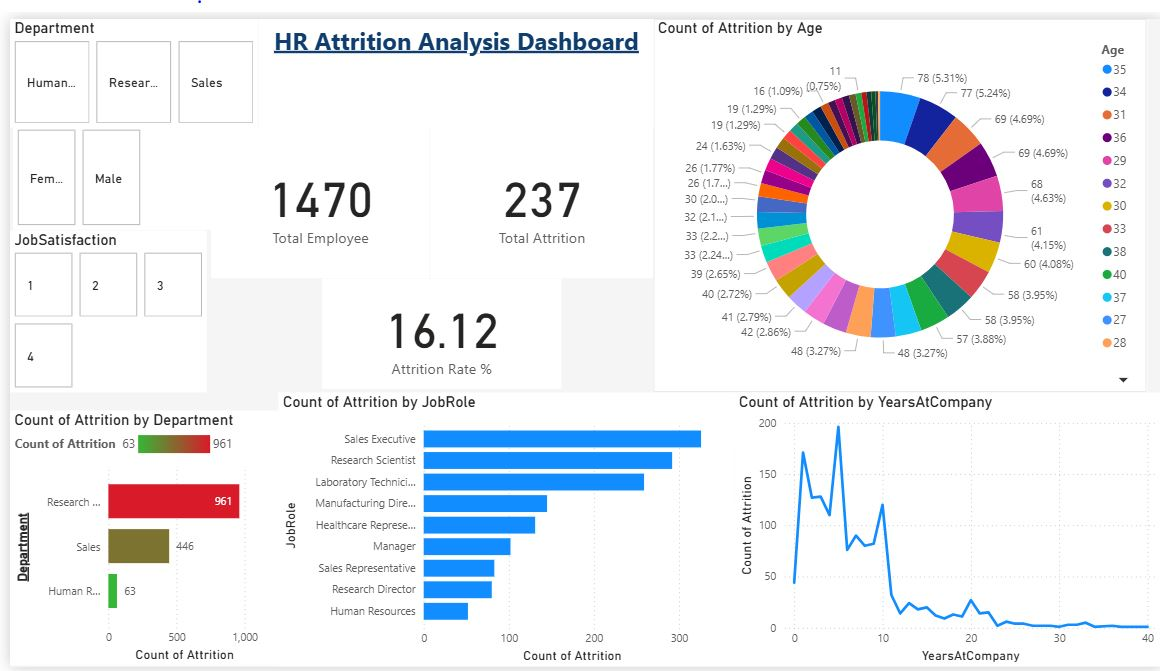

The page's visual inventory and layout, read from the dashboard file:
{"tool":"powerbi","page":{"name":"Page 1","canvas":[1280,720],"ordinal":0},"visuals":[{"type":"card","fields":{"Values":["Sum(WA_Fn-UseC_-HR-Employee-Attrition.EmployeeCount)"]},"box":[223.7,120.6,243,167.8],"z":0},{"type":"card","fields":{"Values":["WA_Fn-UseC_-HR-Employee-Attrition.Total Attrition"]},"box":[466.7,120.6,248.2,167.8],"z":1000},{"type":"card","fields":{"Values":["WA_Fn-UseC_-HR-Employee-Attrition.Attrition Rate"]},"box":[346.1,288.4,265.7,122.3],"z":2000},{"type":"clusteredBarChart","fields":{"Category":["WA_Fn-UseC_-HR-Employee-Attrition.Department"],"Y":["CountNonNull(WA_Fn-UseC_-HR-Employee-Attrition.Attrition)"]},"box":[0,435.2,298.9,283.2],"z":3000},{"type":"clusteredBarChart","fields":{"Category":["WA_Fn-UseC_-HR-Employee-Attrition.JobRole"],"Y":["CountNonNull(WA_Fn-UseC_-HR-Employee-Attrition.Attrition)"]},"box":[298.9,414.2,506.9,304.1],"z":4000},{"type":"donutChart","fields":{"Y":["CountNonNull(WA_Fn-UseC_-HR-Employee-Attrition.Attrition)"],"Category":["WA_Fn-UseC_-HR-Employee-Attrition.Age"]},"box":[714.9,0,548.8,414.2],"z":5000},{"type":"lineChart","fields":{"Category":["WA_Fn-UseC_-HR-Employee-Attrition.YearsAtCompany"],"Y":["CountNonNull(WA_Fn-UseC_-HR-Employee-Attrition.Attrition)"]},"box":[805.8,414.2,473.7,304.1],"z":6000},{"type":"advancedSlicerVisual","fields":{"Values":["WA_Fn-UseC_-HR-Employee-Attrition.Gender"]},"box":[3.5,97.9,220.2,136.3],"z":7000},{"type":"advancedSlicerVisual","fields":{"Values":["WA_Fn-UseC_-HR-Employee-Attrition.JobSatisfaction"]},"box":[0,234.2,218.5,180],"z":8000},{"type":"advancedSlicerVisual","fields":{"Values":["WA_Fn-UseC_-HR-Employee-Attrition.Department"]},"box":[0,0,276.2,120.6],"z":9000},{"type":"textbox","box":[276.2,0,438.7,120.6],"z":9001}]}

Visuals, with their boxes in screenshot pixels (x1, y1, x2, y2), scaled from the page's 1280x720 canvas onto the 1160x671 screenshot:
card - Sum(WA_Fn-UseC_-HR-Employee-Attrition.EmployeeCount): pyautogui.locateOnScreen(203, 112, 423, 269)
card - WA_Fn-UseC_-HR-Employee-Attrition.Total Attrition: pyautogui.locateOnScreen(423, 112, 648, 269)
card - WA_Fn-UseC_-HR-Employee-Attrition.Attrition Rate: pyautogui.locateOnScreen(314, 269, 554, 383)
clusteredBarChart - WA_Fn-UseC_-HR-Employee-Attrition.Department x CountNonNull(WA_Fn-UseC_-HR-Employee-Attrition.Attrition): pyautogui.locateOnScreen(0, 406, 271, 670)
clusteredBarChart - WA_Fn-UseC_-HR-Employee-Attrition.JobRole x CountNonNull(WA_Fn-UseC_-HR-Employee-Attrition.Attrition): pyautogui.locateOnScreen(271, 386, 730, 669)
donutChart - CountNonNull(WA_Fn-UseC_-HR-Employee-Attrition.Attrition) x WA_Fn-UseC_-HR-Employee-Attrition.Age: pyautogui.locateOnScreen(648, 0, 1145, 386)
lineChart - WA_Fn-UseC_-HR-Employee-Attrition.YearsAtCompany x CountNonNull(WA_Fn-UseC_-HR-Employee-Attrition.Attrition): pyautogui.locateOnScreen(730, 386, 1159, 669)
advancedSlicerVisual - WA_Fn-UseC_-HR-Employee-Attrition.Gender: pyautogui.locateOnScreen(3, 91, 203, 218)
advancedSlicerVisual - WA_Fn-UseC_-HR-Employee-Attrition.JobSatisfaction: pyautogui.locateOnScreen(0, 218, 198, 386)
advancedSlicerVisual - WA_Fn-UseC_-HR-Employee-Attrition.Department: pyautogui.locateOnScreen(0, 0, 250, 112)
textbox: pyautogui.locateOnScreen(250, 0, 648, 112)
